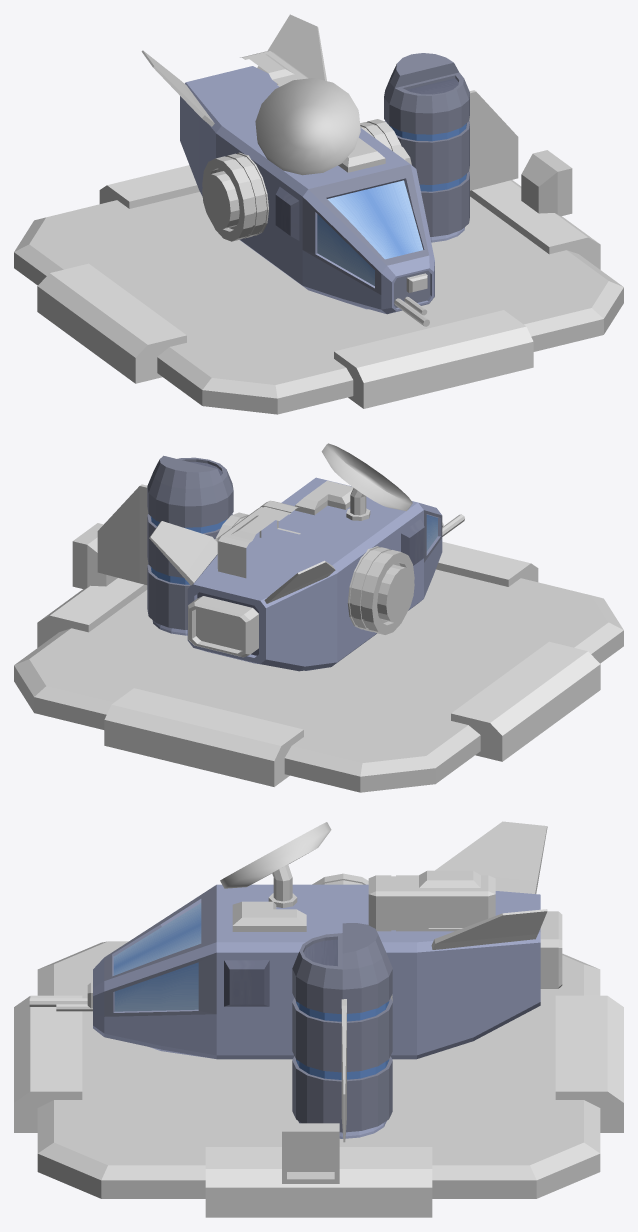
The model's file is Landing_Pad.glb.
3 views of the same model, one above another, from view 1: azimuth 30°, elevation 25°; view 2: azimuth 150°, elevation 25°; view 3: azimuth 270°, elevation 25° (orthographic). The views are drawn at different scales.
Visible parts, largest first — view 1: Cube.001, Phase1, Phase2, Phase4.001, Phase3, Phase3.001, Cube.007, Phase5, Phase4; view 2: Cube.001, Phase1, Phase2, Phase4.001, Phase3, Phase2.001, Phase3.001, Phase5, Cube.007; view 3: Cube.001, Phase1, Phase2, Phase3.001, Phase5, Phase4.001, Cube.007, Phase2.001, Phase4, Phase3.
Boxes of the visible parts, x1,y1,x2,y2 form: Cube.001: (14,165,623,414); Phase1: (180,66,434,314); Phase2: (384,53,469,242); Phase4.001: (255,78,385,175); Phase3: (469,90,518,190); Phase3.001: (141,14,326,126); Cube.007: (521,150,572,216); Phase5: (240,51,308,86); Phase4: (394,273,429,326); Cube.001: (14,541,623,792); Phase1: (187,477,442,671); Phase2: (147,455,233,635); Phase4.001: (295,443,412,520); Phase3: (97,484,148,584); Phase2.001: (188,596,258,657); Phase3.001: (149,521,335,603); Phase5: (217,500,300,578); Cube.007: (72,523,117,589); Cube.001: (14,941,623,1217); Phase1: (93,873,540,1059); Phase2: (292,923,392,1138); Phase3.001: (431,821,547,949); Phase5: (368,870,495,931); Phase4.001: (220,822,331,931); Cube.007: (282,1123,339,1183); Phase2.001: (540,911,562,988); Phase4: (29,982,92,1011); Phase3: (341,999,346,1142).
Bounding box in the file's own units: 10.32 × 4.57 × 10.04.
2 materials, 1 textured.
